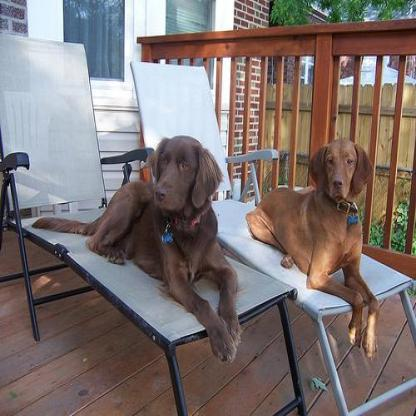vizsla: (32, 132, 244, 362), (244, 134, 380, 362)
